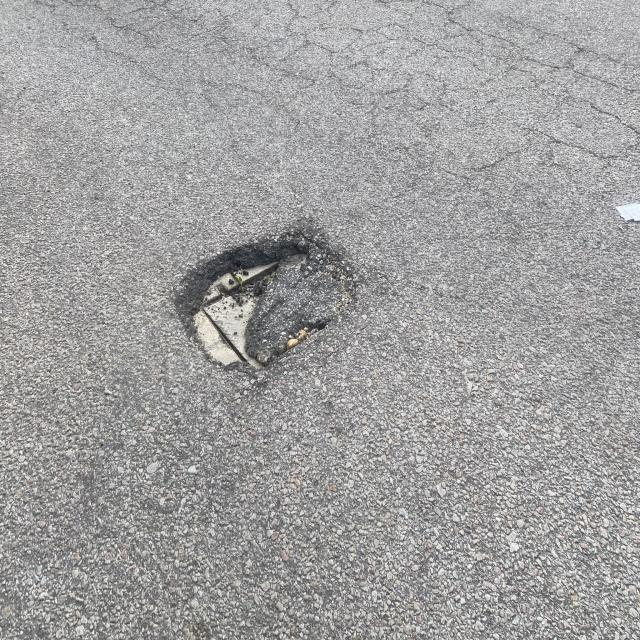Pothole: (108, 213, 377, 382)
